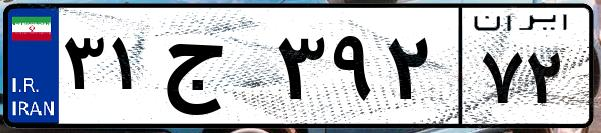1: (110, 28, 158, 98)
2: (385, 28, 445, 110), (525, 38, 570, 115)
3: (270, 28, 330, 110), (57, 26, 110, 100)
7: (475, 38, 525, 113)
9: (330, 28, 385, 110)
ج: (158, 20, 270, 120)
